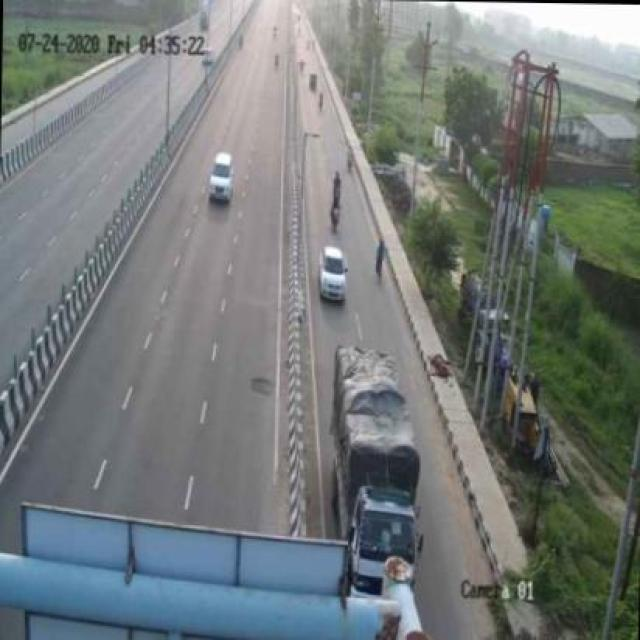car: (309, 231, 365, 306), (207, 146, 240, 207)
